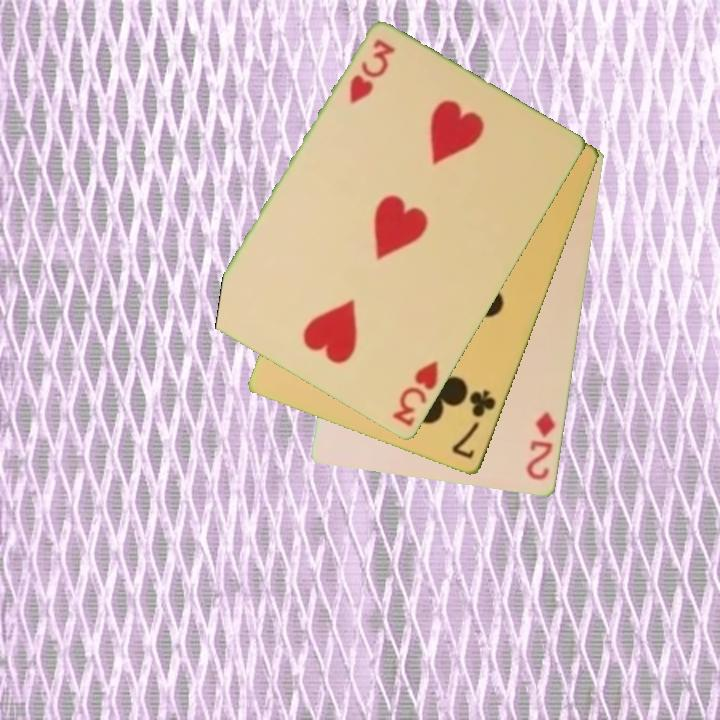2d: (523, 408, 559, 484)
3h: (389, 358, 442, 430), (346, 36, 398, 108)
7c: (448, 387, 499, 463)
